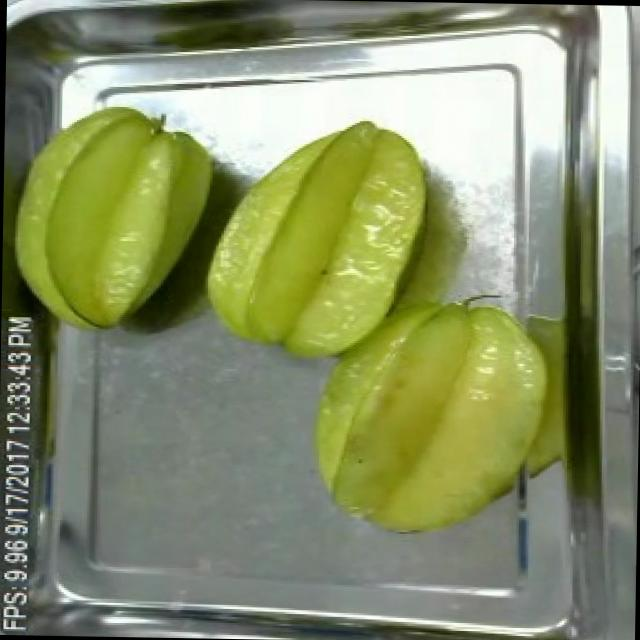fruit: (300, 288, 574, 550), (195, 108, 438, 376), (0, 89, 227, 342)
